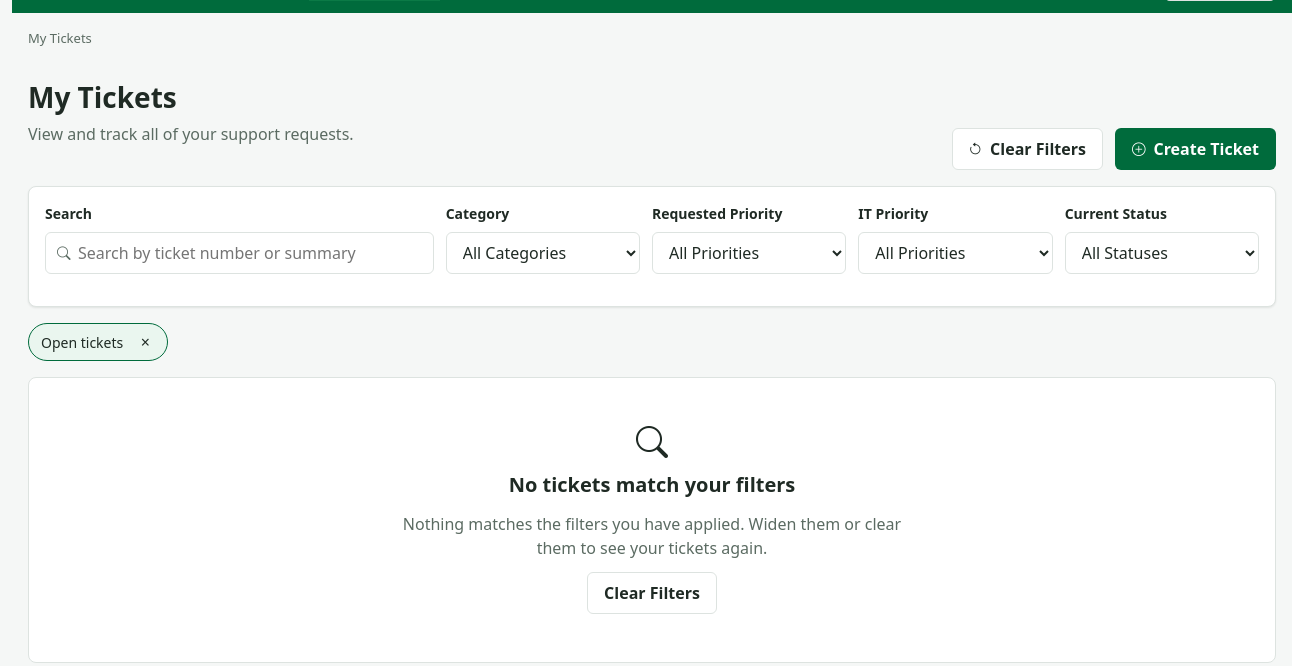
Test: UI-17 My Tickets reads URL filters › removing the chip updates the address and the request
Click the button named "Remove the Open tickets filter": (145, 342) [131, 328, 159, 356]
(page scrolled)
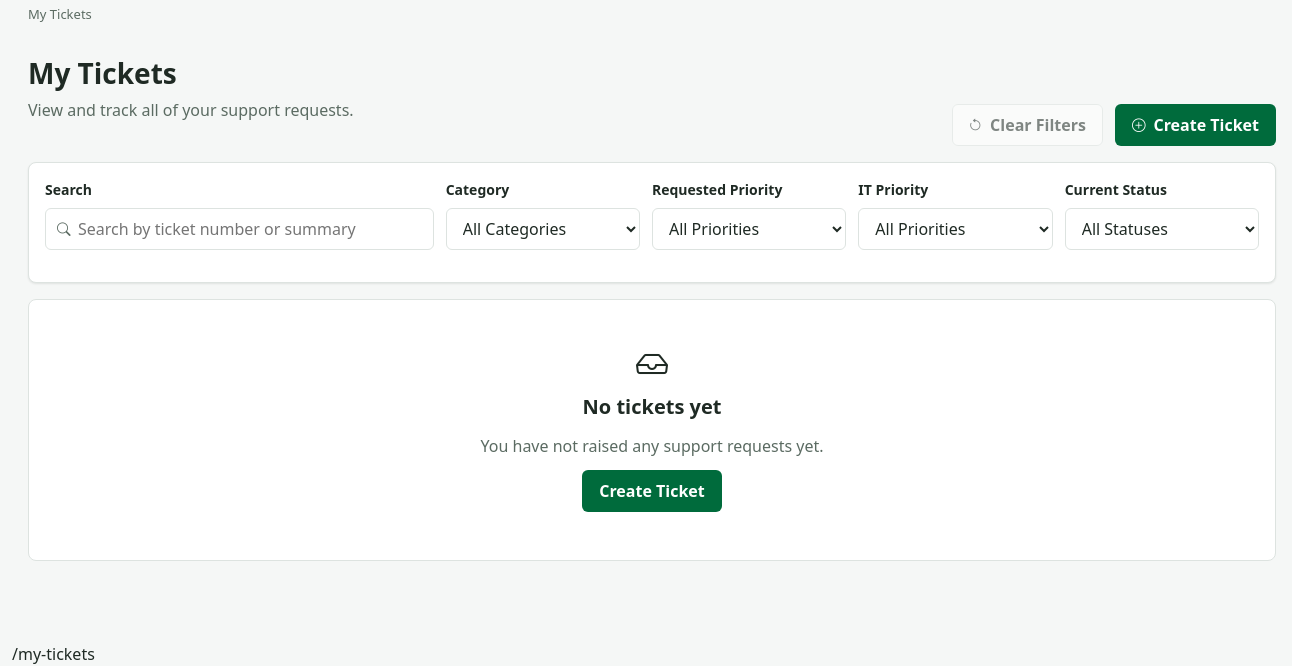
expect the text "Open tickets" is gone: met
expect the text with test id "where" reads "/my-tickets": met, box [12, 643, 95, 665]
